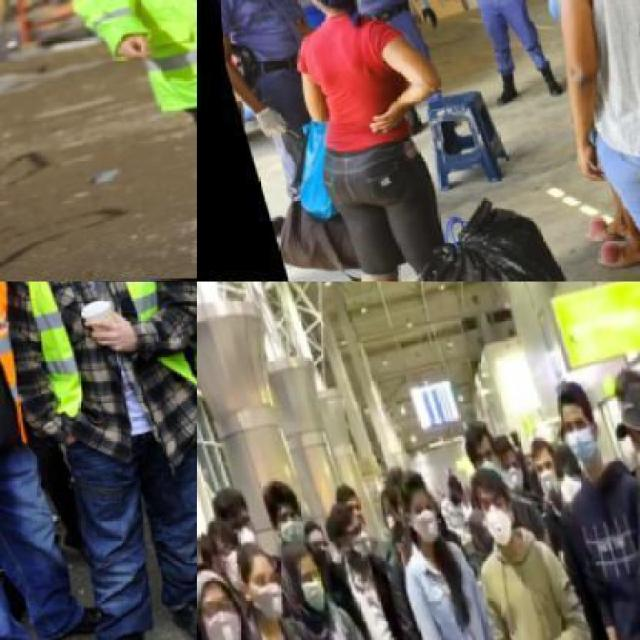Vest: (0, 281, 195, 424), (22, 0, 195, 137), (96, 282, 196, 389), (324, 0, 403, 15)
